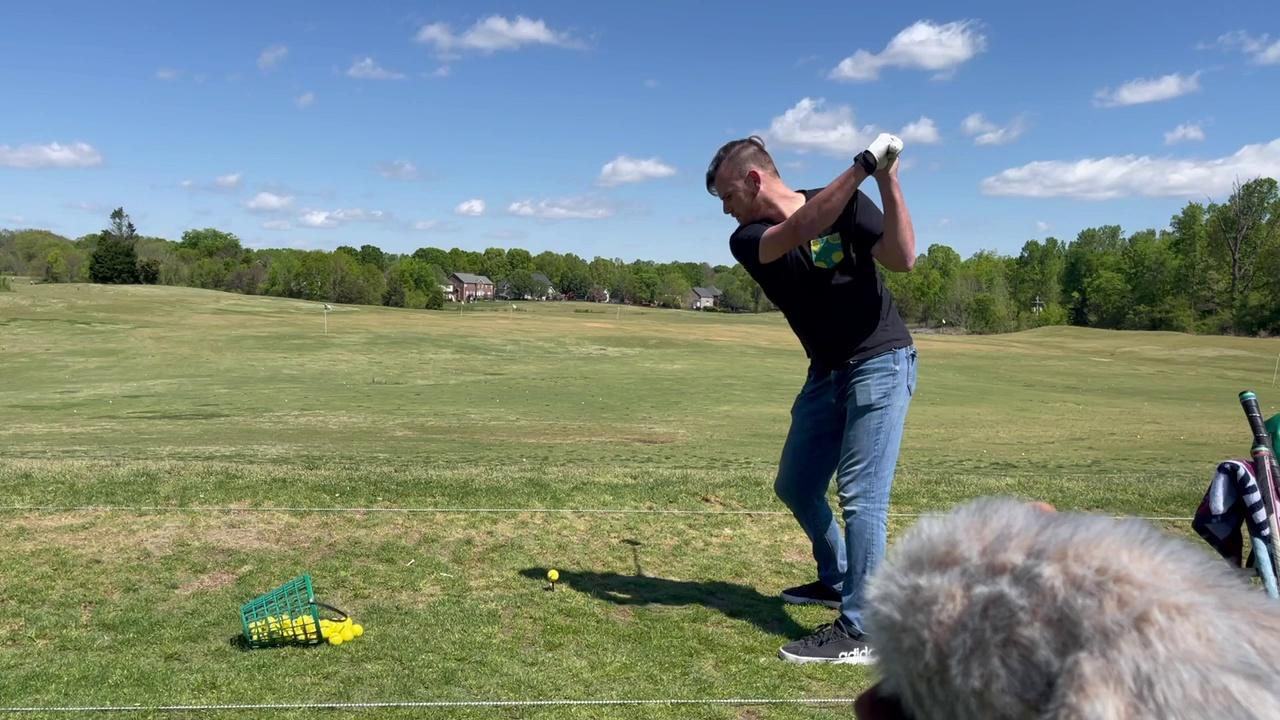GolfBall: (545, 567, 561, 584)
